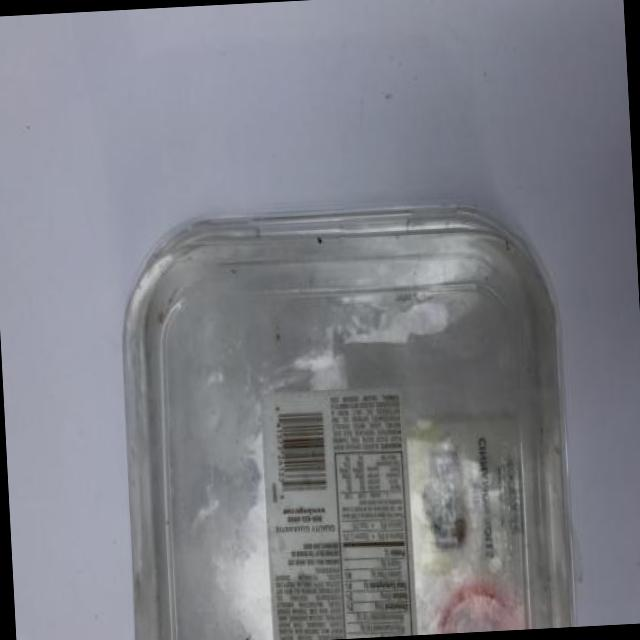Trash: (114, 196, 579, 640)
